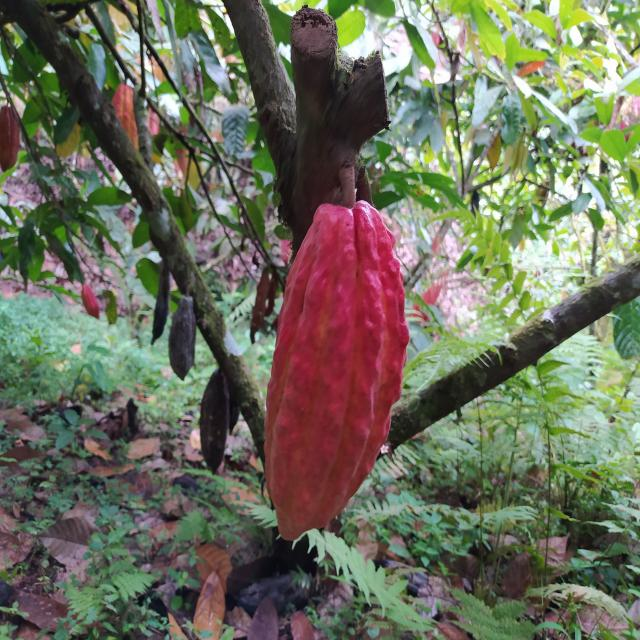Fitoftora: (200, 368, 230, 476), (168, 293, 196, 380), (152, 260, 172, 344), (228, 399, 240, 432)
Sana: (262, 205, 408, 542), (0, 104, 20, 170), (82, 283, 100, 319)
